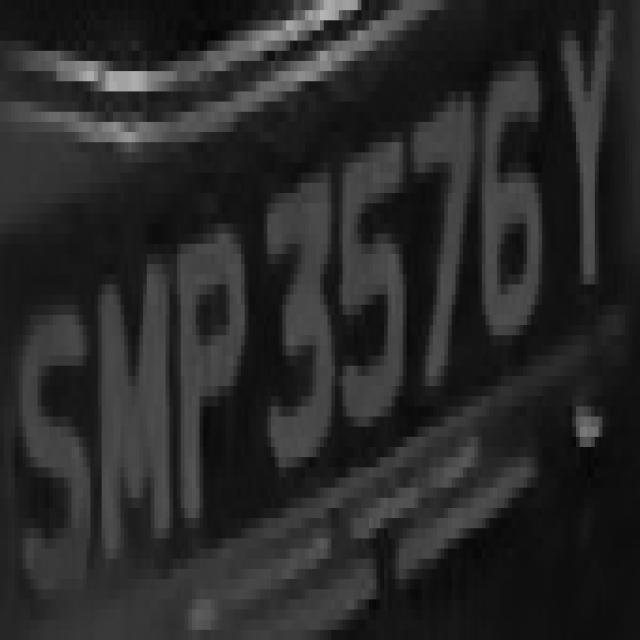3: (256, 162, 339, 488)
5: (324, 142, 410, 488)
6: (466, 51, 550, 386)
7: (395, 91, 482, 416)
M: (94, 234, 173, 579)
P: (173, 193, 252, 538)
S: (15, 264, 94, 610)
Y: (546, 21, 632, 346)
